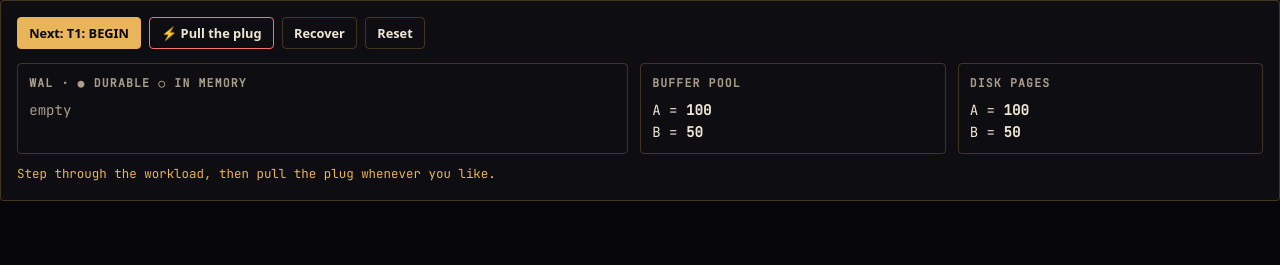
it: WAL crash recovery › redoes a committed-but-unflushed transaction
Click the button "Next: T1: BEGIN" at point(79, 33), box [17,17,141,49]
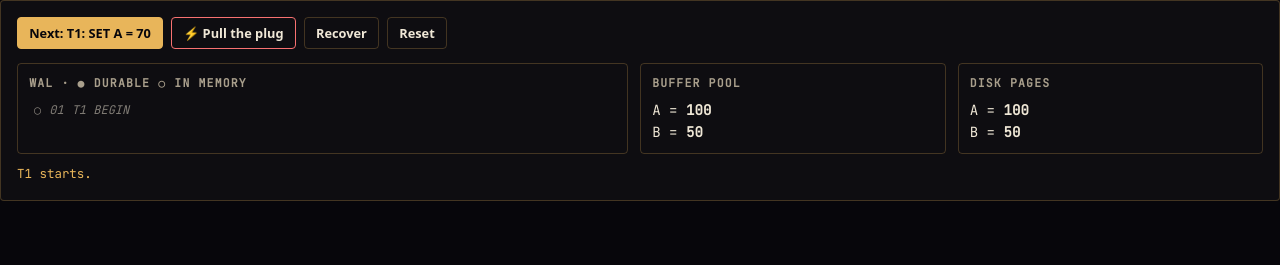
Click the button "Next: T1: SET A = 70" at point(90, 33), box [17,17,163,49]
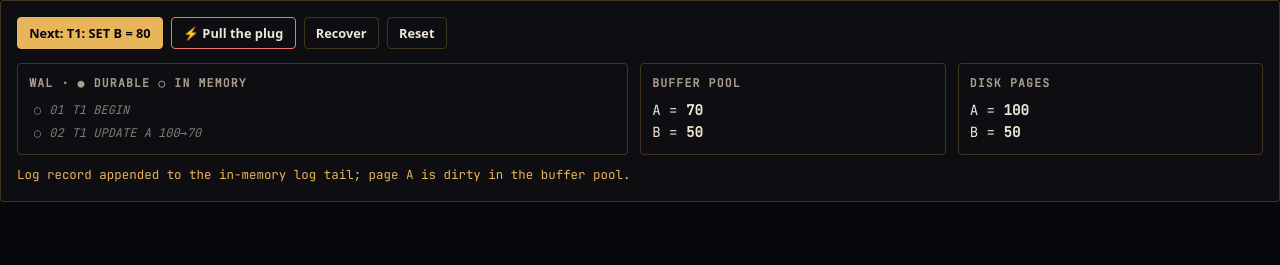
Click the button "Next: T1: SET B = 80" at point(90, 33), box [17,17,163,49]
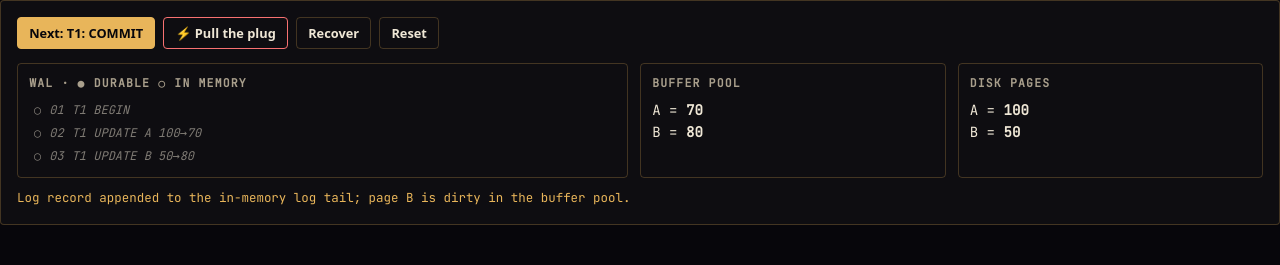
Click the button "Next: T1: COMMIT" at point(86, 33), box [17,17,155,49]
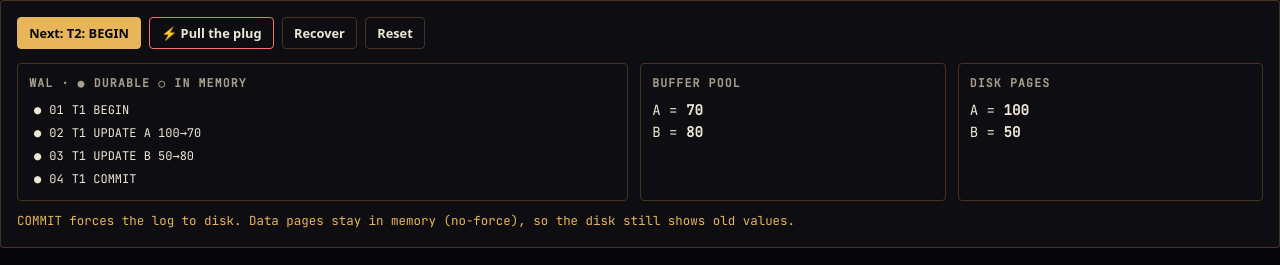
Click the button "⚡ Pull the plug" at point(211, 33), box [149,17,274,49]
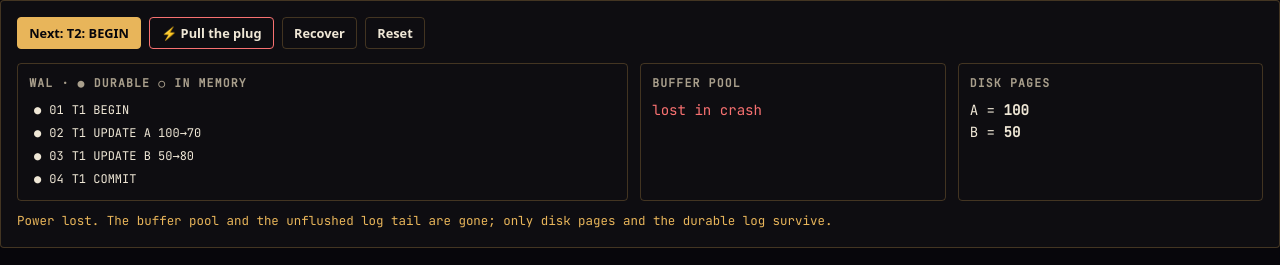
Click the button "Recover" at point(319, 33), box [282,17,357,49]
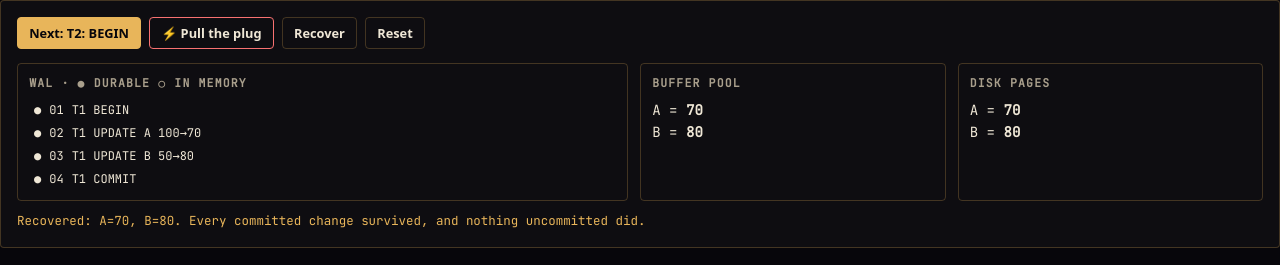
Check: the text "Recovered:" shows "A=70, B=80", box [17,212,645,229]
